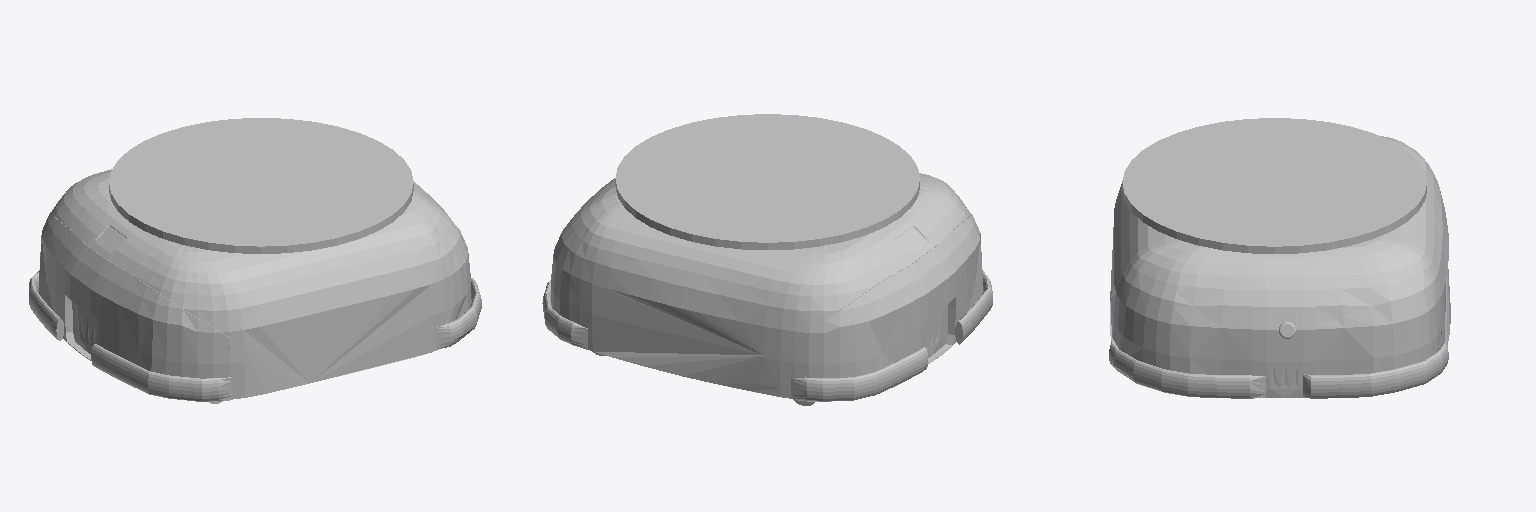
3 renders of one model, left to right at view 1: azimuth 30°, elevation 25°; view 2: azimuth 150°, elevation 25°; view 3: azimuth 270°, elevation 25°, orthographic.
Visible parts, largest first — view 1: 细分曲面.1, 圆柱.1, 布尔.1; view 2: 细分曲面.1, 圆柱.1, 布尔.1; view 3: 细分曲面.1, 圆柱.1, 布尔.1.
Part boxes in pixels (left/top/right/bottom): 细分曲面.1: left=39, top=169, right=471, bottom=400; 圆柱.1: left=109, top=118, right=413, bottom=253; 布尔.1: left=29, top=271, right=481, bottom=401; 细分曲面.1: left=551, top=173, right=982, bottom=401; 圆柱.1: left=615, top=114, right=919, bottom=249; 布尔.1: left=542, top=269, right=992, bottom=401; 细分曲面.1: left=1110, top=136, right=1450, bottom=397; 圆柱.1: left=1122, top=118, right=1426, bottom=253; 布尔.1: left=1109, top=338, right=1448, bottom=398.
Size of the model in its own units: 25.48 by 10.14 by 20.98.